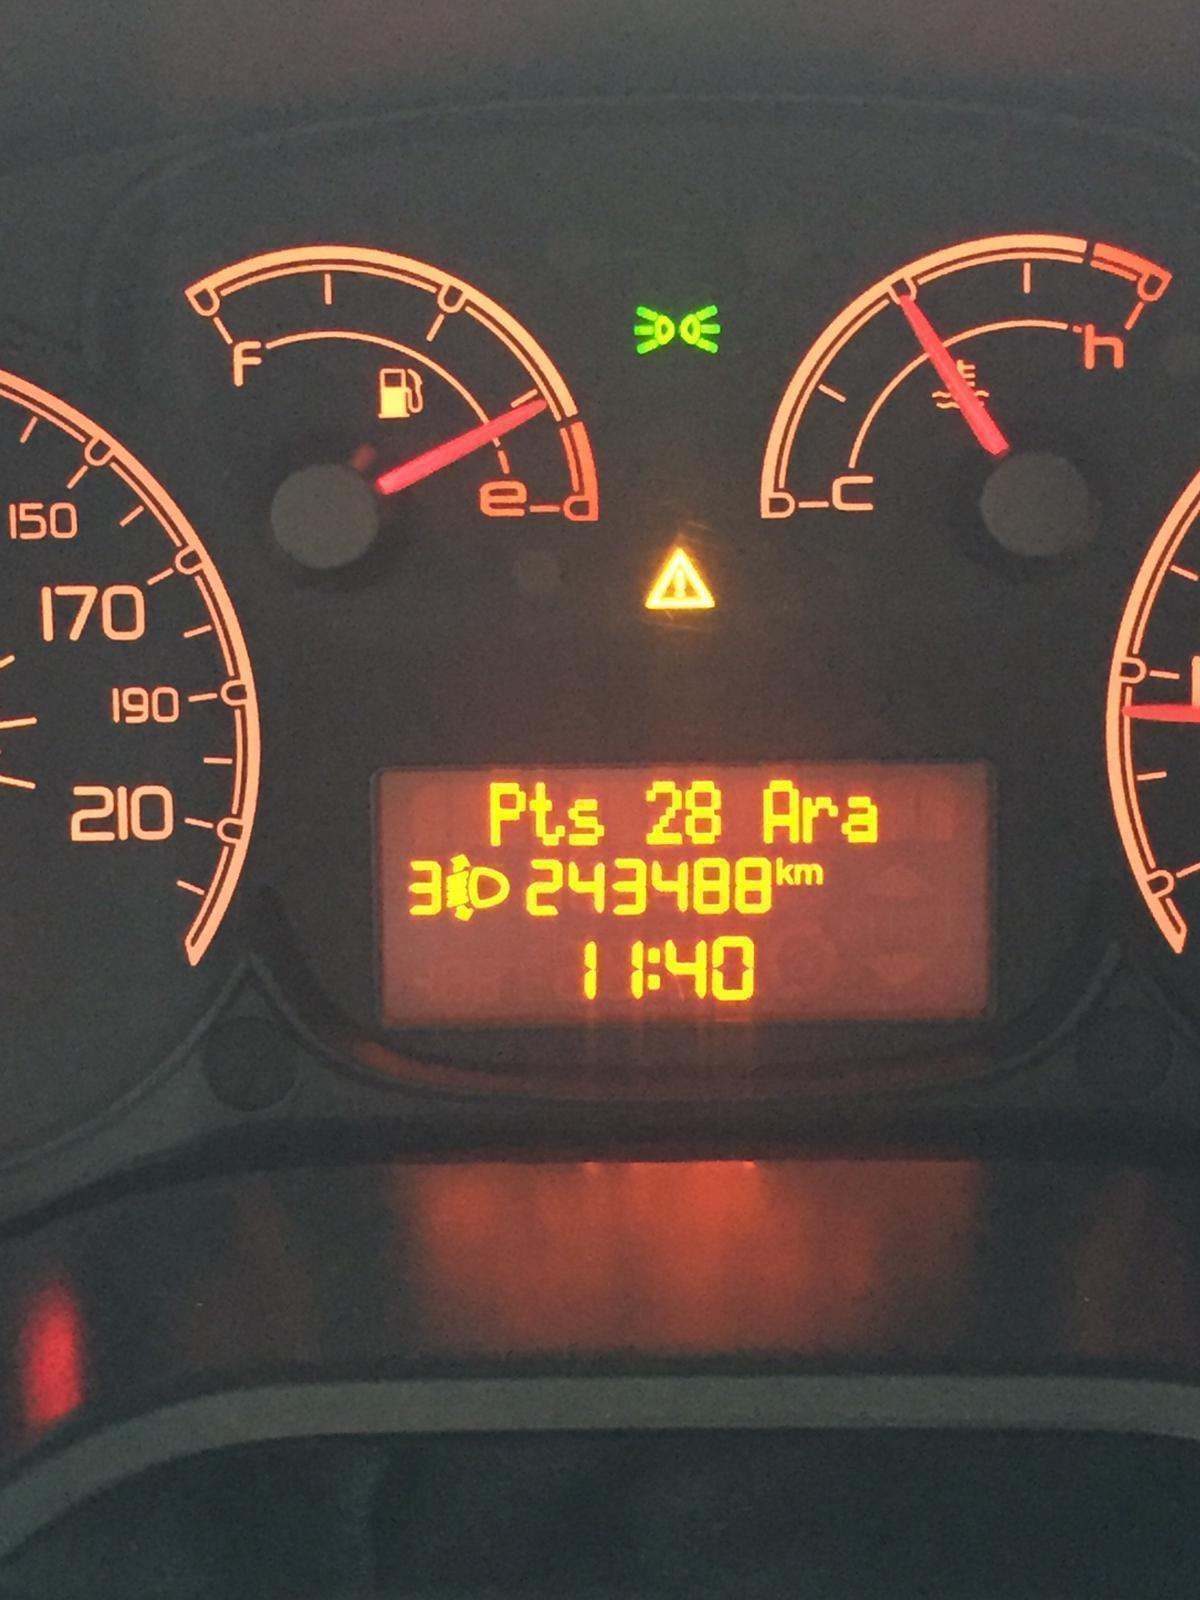0: (712, 934, 758, 1007)
1: (581, 937, 603, 1005), (628, 934, 645, 1003)
2: (526, 852, 565, 923), (645, 777, 686, 847)
3: (609, 852, 647, 918), (406, 855, 445, 920)
4: (664, 937, 707, 1000), (567, 857, 609, 920), (650, 853, 689, 913)
8: (684, 779, 722, 847), (692, 854, 730, 916), (734, 855, 771, 917)
X: (760, 779, 803, 845), (488, 777, 529, 844), (527, 780, 566, 845), (568, 796, 606, 850), (802, 792, 838, 844), (843, 792, 879, 844), (645, 941, 663, 993), (794, 860, 823, 889), (775, 853, 793, 889)
odometer: (373, 761, 1000, 1023)
